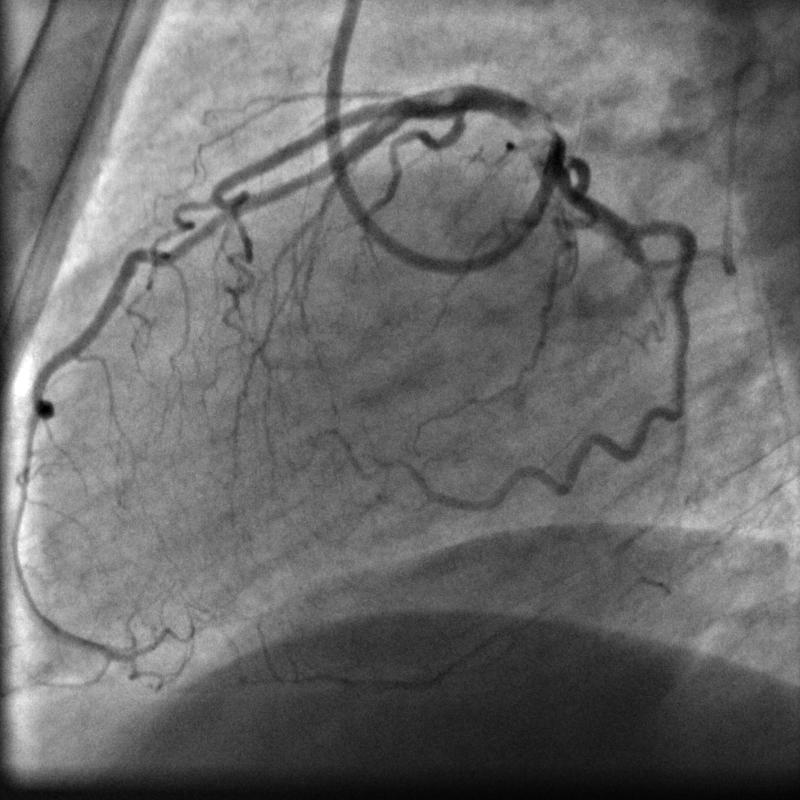Stenosis: (441, 88, 481, 140)
